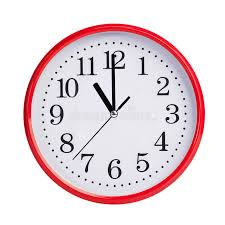alarm_clock: (25, 16, 205, 204), (25, 21, 205, 204)
